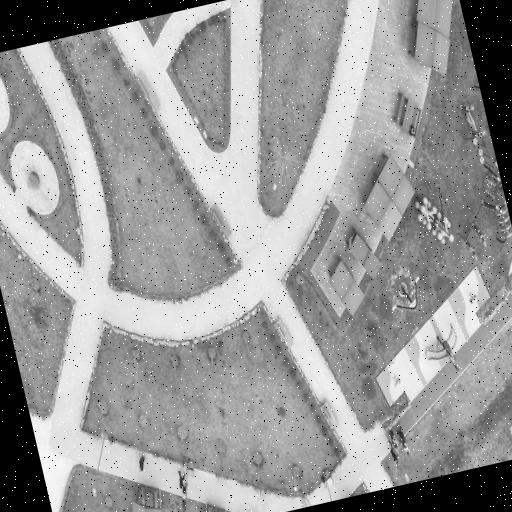person: (398, 425, 406, 446), (390, 442, 398, 462), (389, 427, 397, 446), (178, 470, 185, 489), (182, 481, 188, 497), (402, 441, 409, 454), (139, 455, 145, 470), (469, 292, 476, 303), (182, 498, 187, 511), (409, 126, 416, 135)
